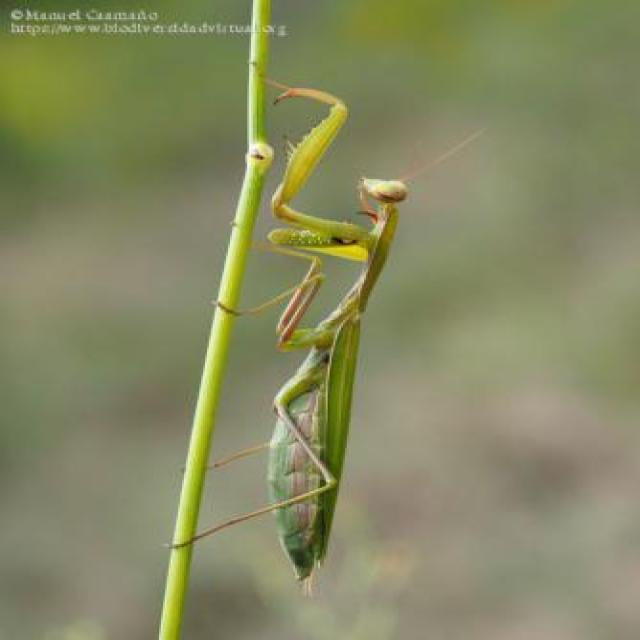antennae: (410, 127, 484, 180)
body: (271, 182, 406, 574)
insect: (167, 71, 486, 584)
legs: (170, 355, 336, 549), (254, 78, 382, 252), (265, 234, 374, 326), (210, 274, 328, 350), (272, 248, 318, 332), (186, 437, 276, 474)
mouthpart: (357, 177, 374, 192)
wings: (304, 318, 366, 558)
